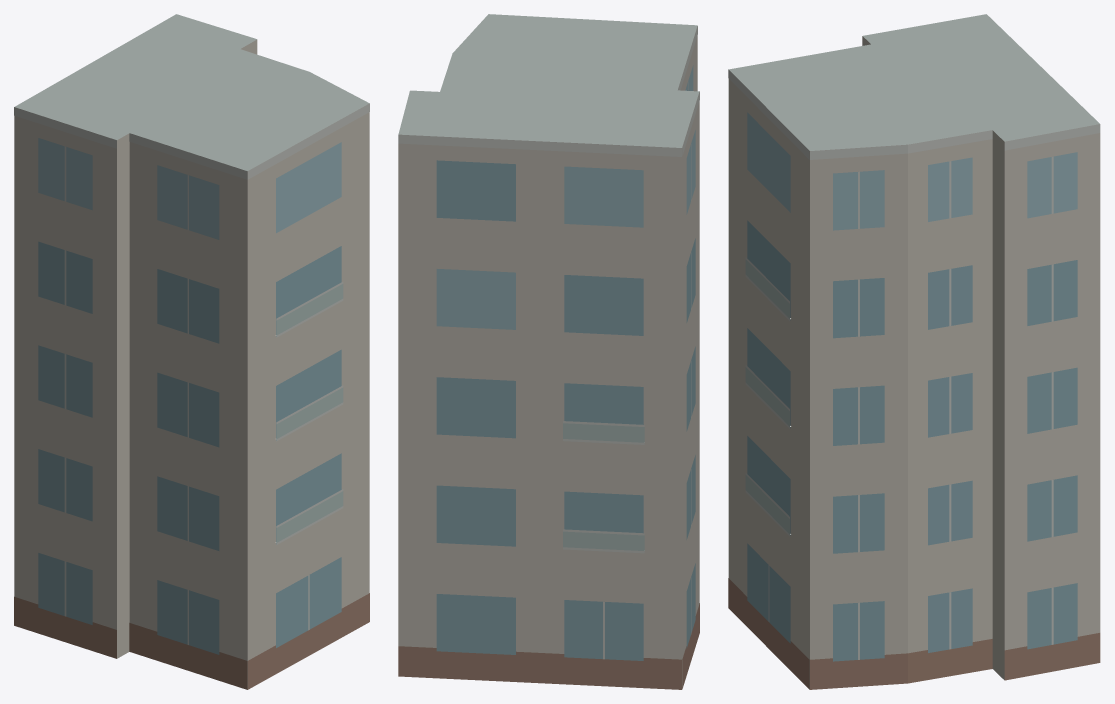
File: survey-upis-32732544.glb
The picture shows the model from 3 angles, left to right: view 1: azimuth 30°, elevation 25°; view 2: azimuth 150°, elevation 25°; view 3: azimuth 270°, elevation 25°; orthographic projection. The views are drawn at different scales.
Parts seen in each view (by area): view 1: survey-upis-32732544.tmp; view 2: survey-upis-32732544.tmp; view 3: survey-upis-32732544.tmp.
Part boxes in pixels (x1,y1,x2,y2): survey-upis-32732544.tmp: (14, 14, 369, 689); survey-upis-32732544.tmp: (398, 14, 699, 689); survey-upis-32732544.tmp: (728, 14, 1100, 689).
Size of the model in its own units: 8.03 by 14.7 by 9.2.
